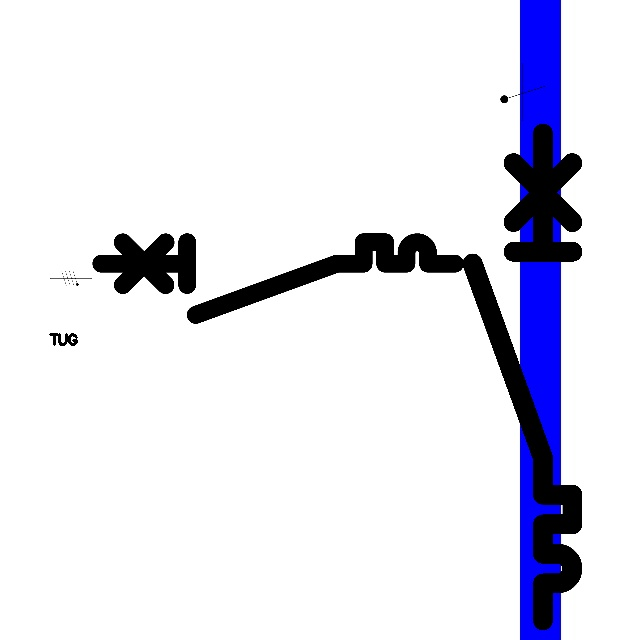interruptor_termomagnetico: (460, 120, 585, 632), (92, 233, 464, 324)
